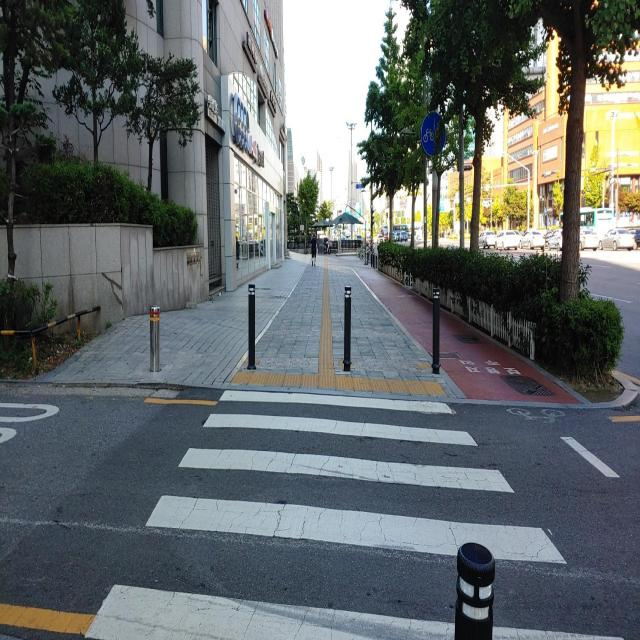횡단보도: (79, 380, 626, 640)
